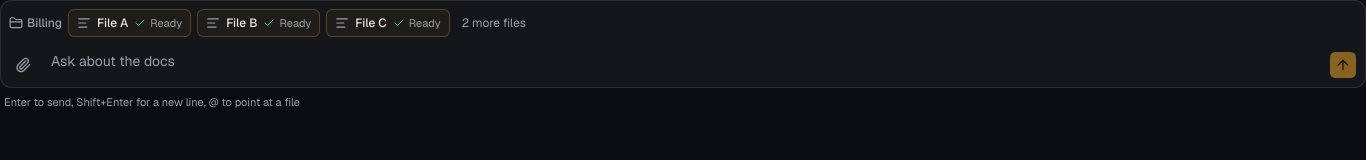
Test: the composer in a project › folds a long list of project files behind a count, and opens it
Expected: the number of elements with test id "project-chip" is 3, 68,9 -> 191,37; 197,9 -> 320,37; 326,9 -> 450,37
Click the button "2 more files" at [494, 23], box 456,9 -> 532,37
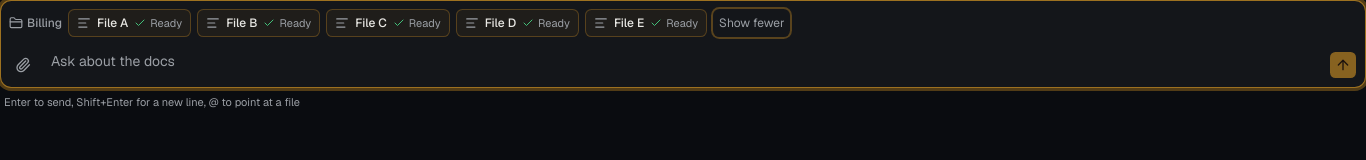
Result: the number of elements with test id "project-chip" is 5 at 68,9 -> 191,37; 197,9 -> 320,37; 326,9 -> 450,37; 456,9 -> 579,37; 585,9 -> 707,37
Result: the button "Show fewer" is expanded at 713,9 -> 790,37
